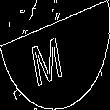M_N: (36, 25, 74, 85)
